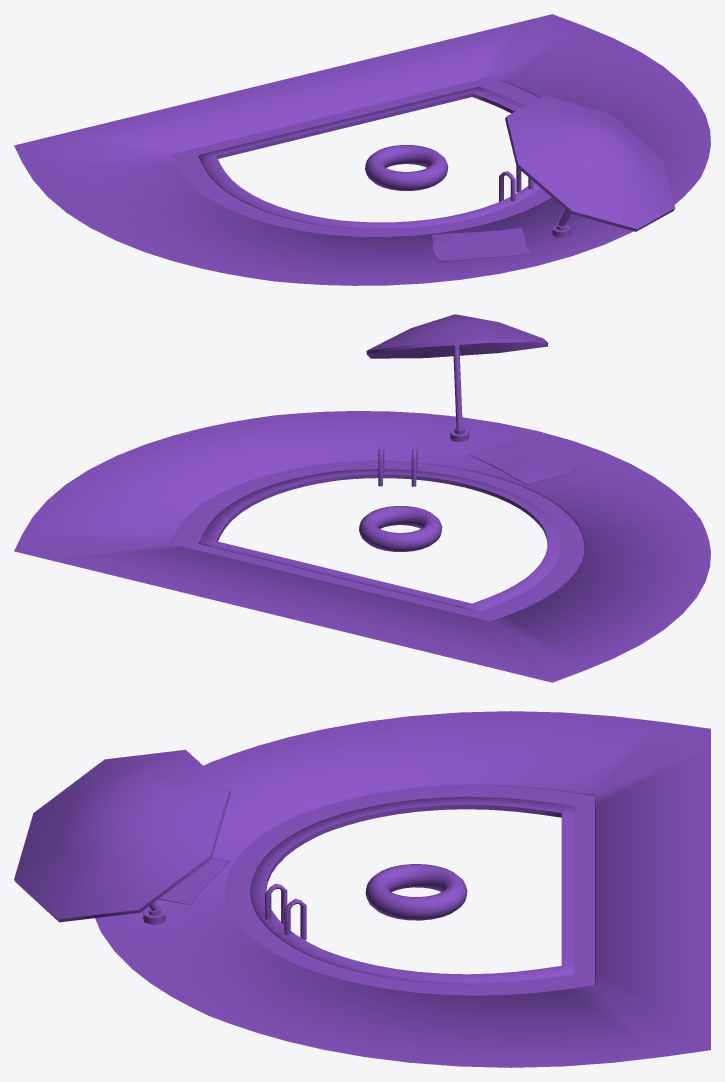
Rendered from SM_Finish_pool 4.FBX.
The picture shows the model from 3 angles, top to bottom: view 1: azimuth 30°, elevation 25°; view 2: azimuth 150°, elevation 25°; view 3: azimuth 270°, elevation 25°; orthographic projection. The views are drawn at different scales.
Visible parts, largest first — view 1: pool, buoy; view 2: pool, buoy; view 3: pool, buoy.
Boxes of the visible parts, x1,y1,x2,y2 form: pool: (14,14,710,285); buoy: (365,145,448,190); pool: (14,314,710,682); buoy: (359,506,442,551); pool: (14,711,710,1067); buoy: (365,864,467,920).
Bounding box in the file's own units: 1073 × 220 × 886.
